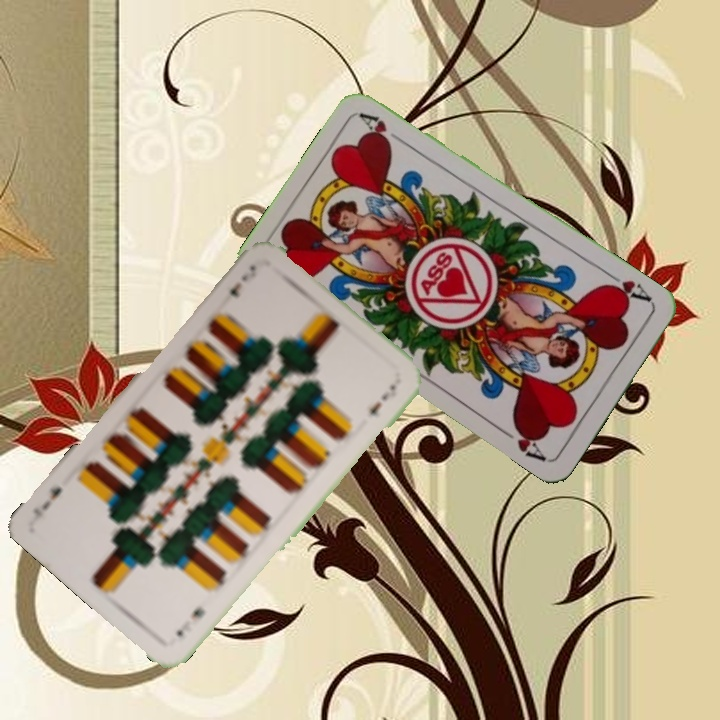E7: (226, 260, 259, 300), (172, 603, 208, 639)
HA: (598, 268, 655, 307)
